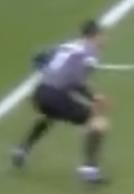goalkeeper: (7, 8, 128, 193)
